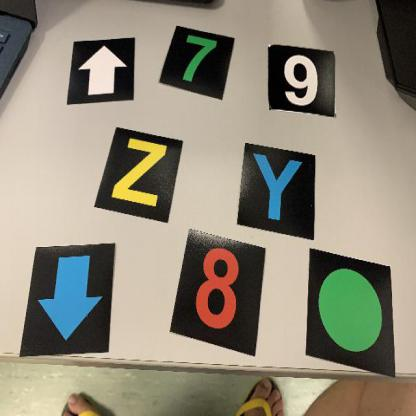7: (158, 23, 236, 104)
8: (170, 227, 268, 361)
9: (269, 45, 339, 120)
down: (19, 241, 118, 359)
go: (305, 246, 397, 381)
up: (67, 36, 137, 105)
y: (236, 141, 318, 242)
z: (93, 124, 185, 226)
